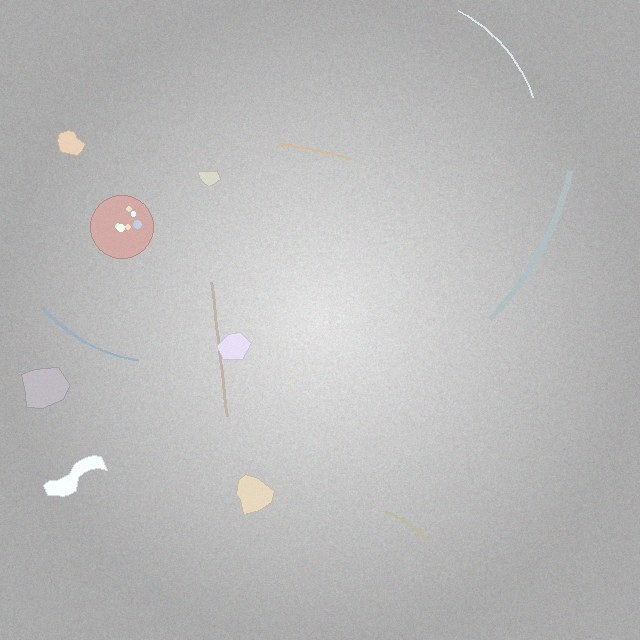fiber: (483, 165, 576, 326), (457, 8, 535, 100), (39, 304, 142, 364), (208, 279, 231, 420), (275, 140, 353, 162), (383, 508, 431, 543)
film: (43, 456, 107, 497)
foam: (91, 195, 154, 258)
fragment: (22, 367, 70, 409), (237, 475, 274, 514), (216, 332, 251, 359), (58, 130, 86, 155), (199, 171, 220, 186)
